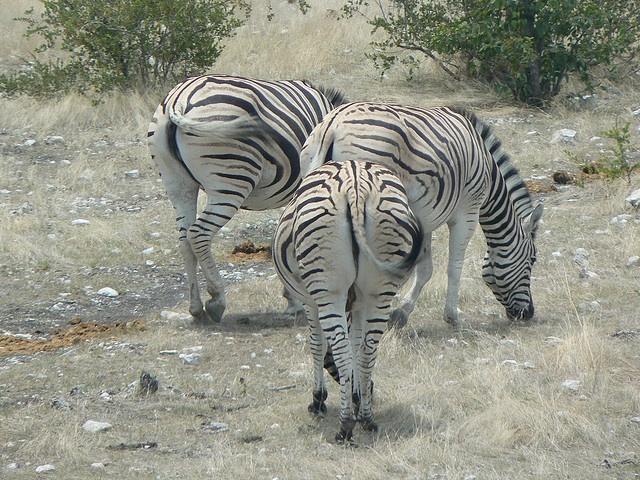zebra: (296, 100, 540, 328), (145, 76, 347, 324), (272, 159, 423, 445)
